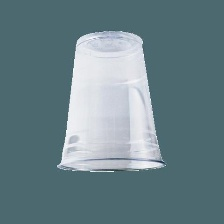glass: (55, 24, 169, 177)
